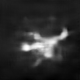plane: (18, 26, 72, 66)
